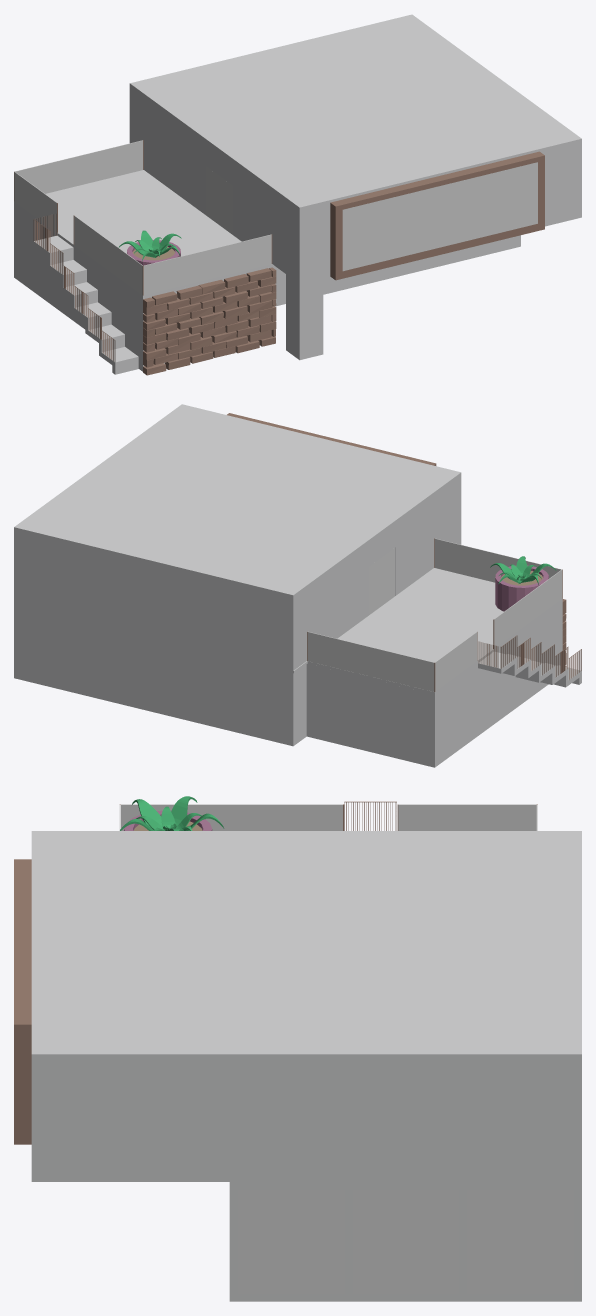
File: soniahouse.fbx
3 views of the same model, one above another, from view 1: azimuth 30°, elevation 25°; view 2: azimuth 150°, elevation 25°; view 3: azimuth 270°, elevation 25° (orthographic). The views are drawn at different scales.
Visible parts, largest first — view 1: Mesh_Mesh_head_geo.001_lambert2SG.001; view 2: Mesh_Mesh_head_geo.001_lambert2SG.001; view 3: Mesh_Mesh_head_geo.001_lambert2SG.001.
Part boxes in pixels (left/top/right/bottom): Mesh_Mesh_head_geo.001_lambert2SG.001: left=14, top=14, right=581, bottom=375; Mesh_Mesh_head_geo.001_lambert2SG.001: left=14, top=404, right=581, bottom=767; Mesh_Mesh_head_geo.001_lambert2SG.001: left=14, top=796, right=581, bottom=1301.
Size of the model in its own units: 18510 by 6242 by 12900.
